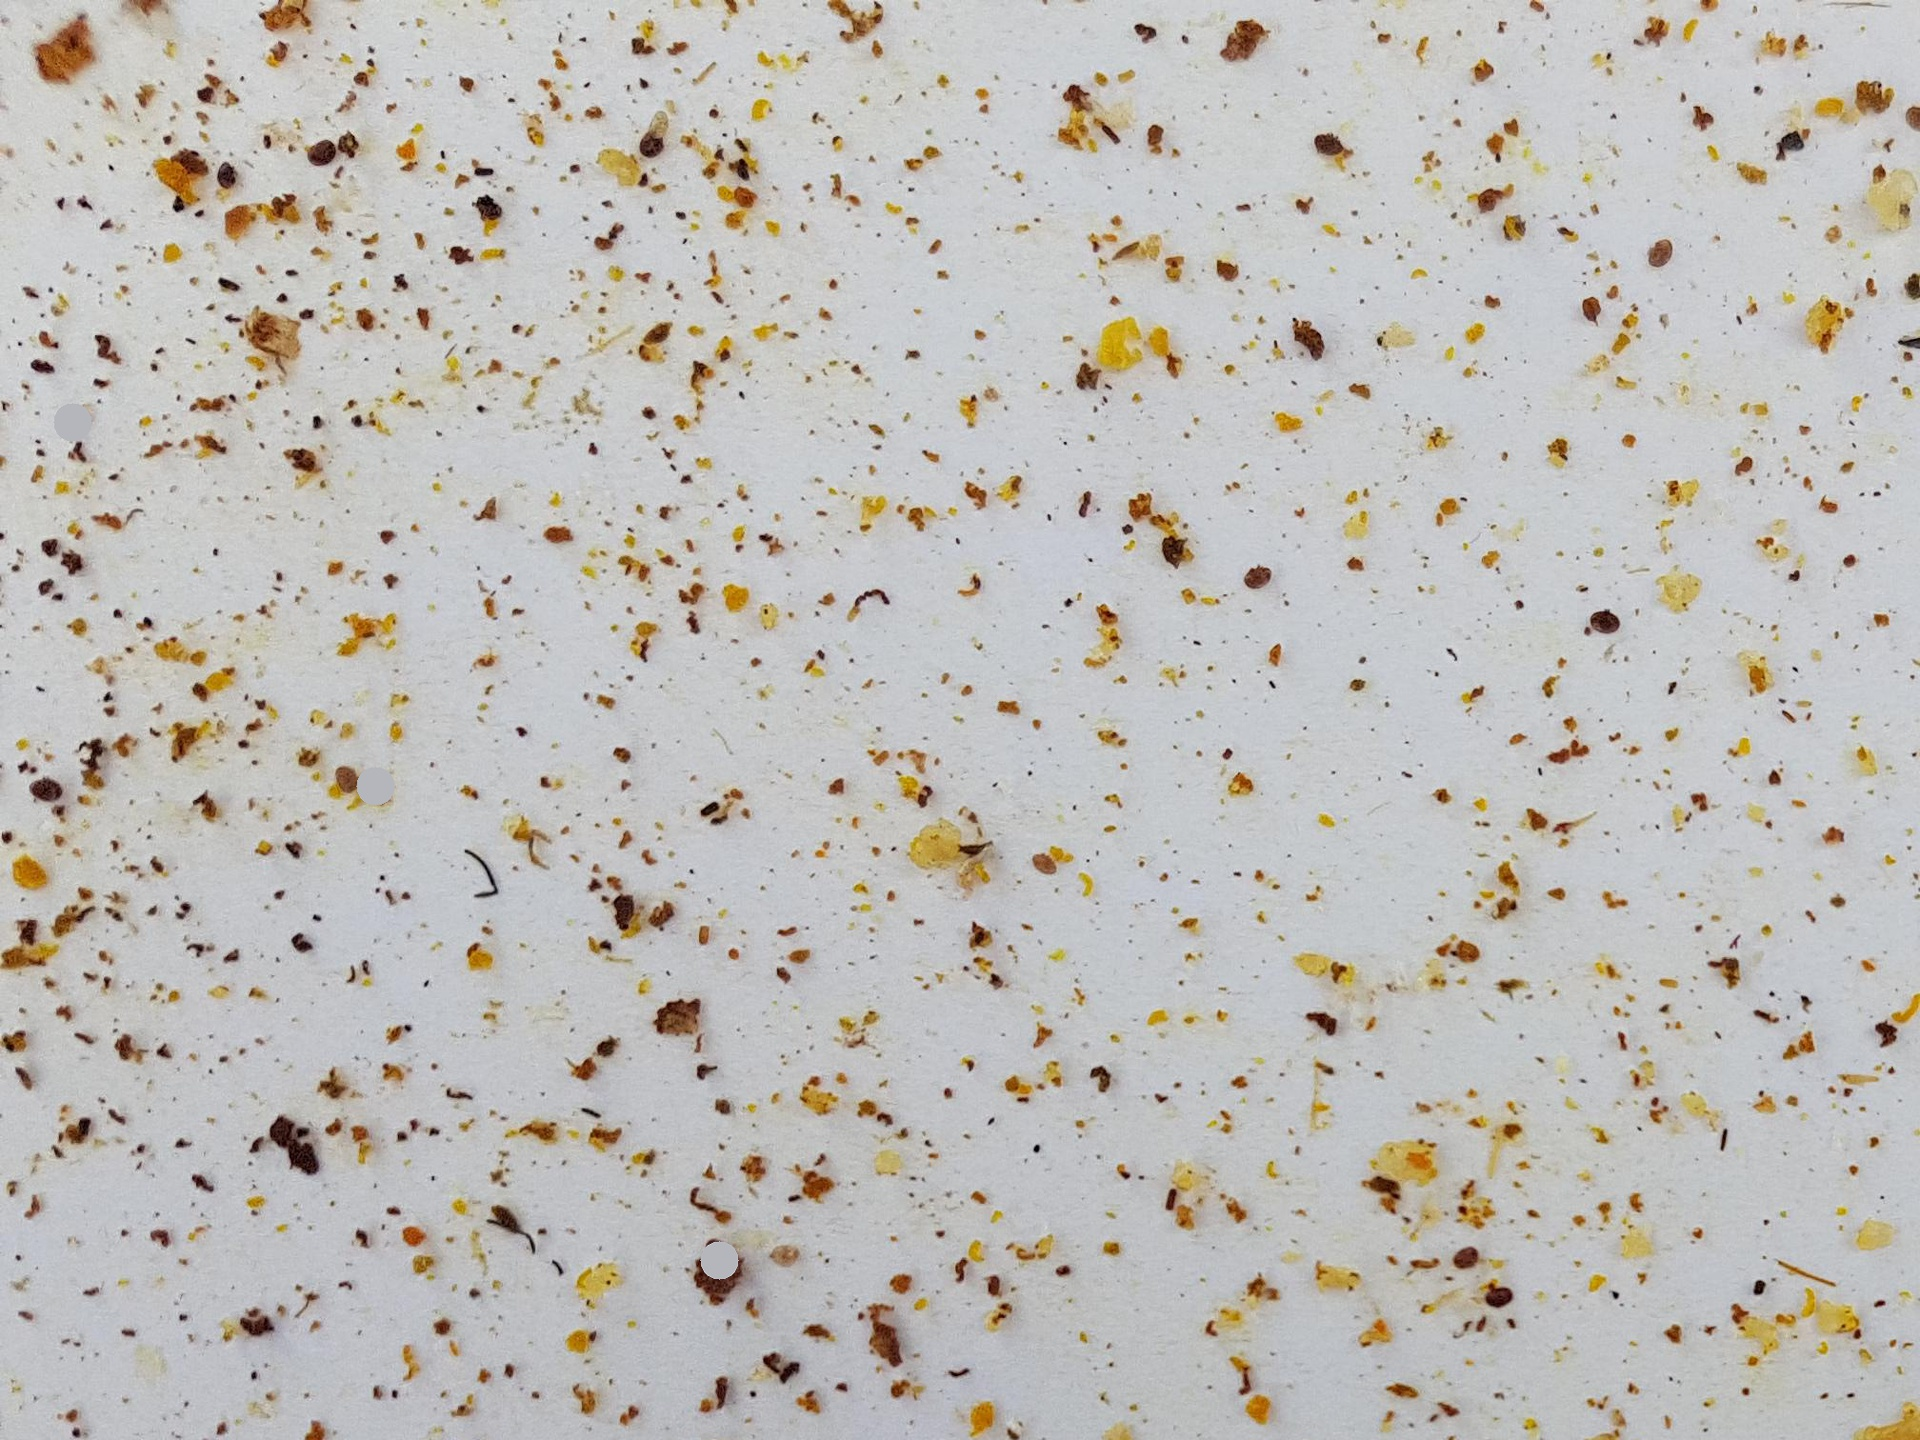Varroa: (1237, 549, 1284, 599), (1637, 225, 1684, 272), (630, 116, 677, 162), (1439, 1231, 1486, 1277), (206, 150, 249, 197), (299, 132, 343, 178), (1479, 1274, 1522, 1317), (325, 759, 370, 802), (27, 767, 68, 812), (1023, 843, 1064, 883), (1581, 607, 1624, 646), (1312, 124, 1352, 165)
